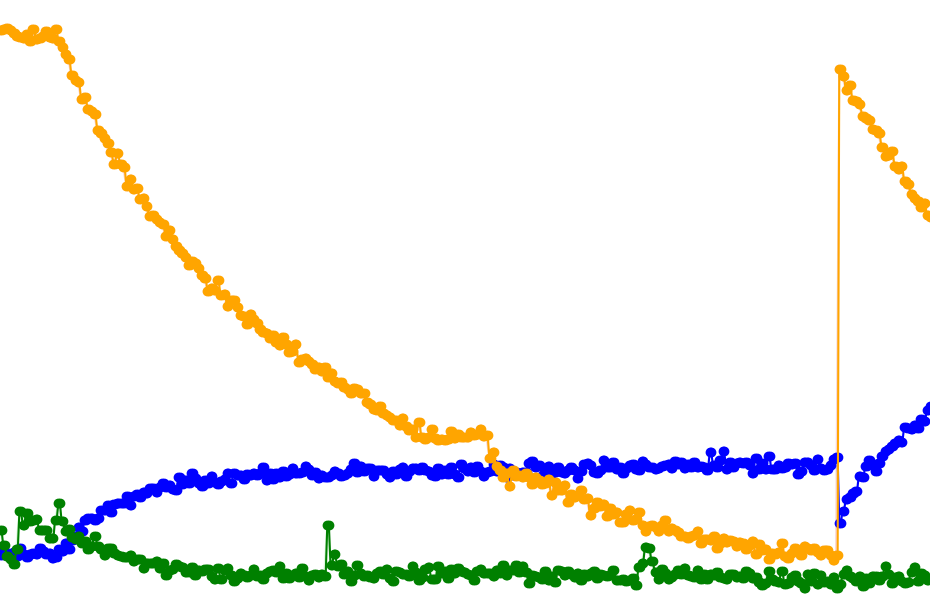CO2 Problem: (77, 0, 194, 616), (427, 0, 505, 616)
Condensation CO2: (505, 0, 738, 616), (194, 0, 311, 616), (505, 0, 622, 616)
High CO2: (738, 0, 930, 616), (349, 0, 505, 616), (816, 0, 930, 616)
Lid Open: (816, 0, 930, 616)
Low O2: (505, 0, 738, 616), (738, 0, 816, 616)
Normal: (194, 0, 505, 616), (427, 0, 738, 616), (505, 0, 816, 616), (194, 0, 466, 616), (233, 0, 505, 616), (77, 0, 311, 616), (505, 0, 738, 616), (0, 0, 194, 616), (505, 0, 699, 616), (738, 0, 930, 616), (77, 0, 194, 616), (194, 0, 311, 616), (233, 0, 349, 616), (816, 0, 930, 616), (349, 0, 427, 616), (427, 0, 505, 616), (738, 0, 816, 616), (0, 0, 77, 616)
O2 Problem: (349, 0, 505, 616), (505, 0, 622, 616), (233, 0, 311, 616), (427, 0, 505, 616)
